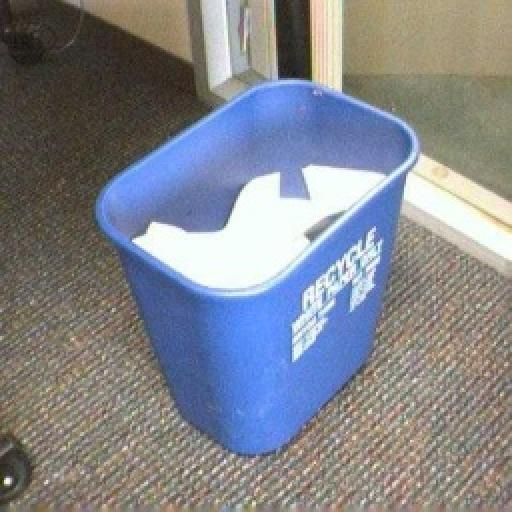trash-can: (96, 59, 430, 457)
